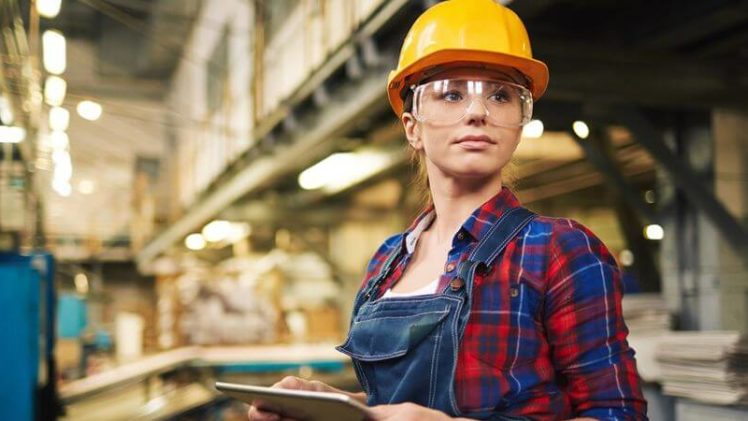high-vis: (386, 1, 549, 114)
